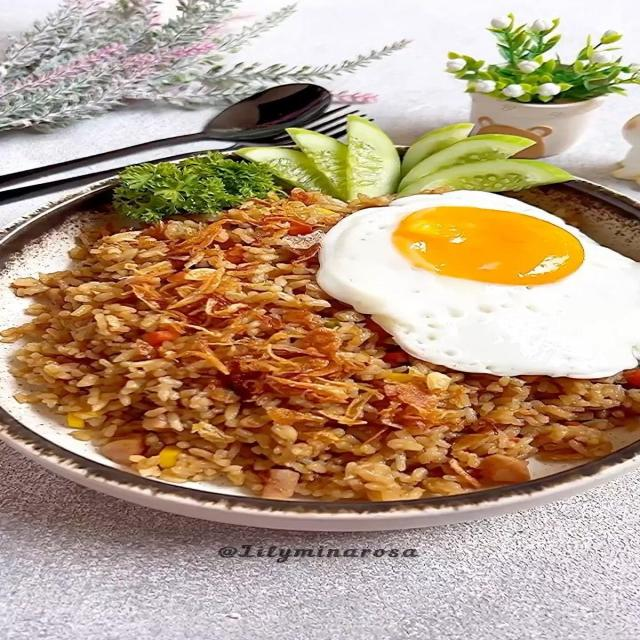Nasi Goreng: (7, 192, 640, 493)
